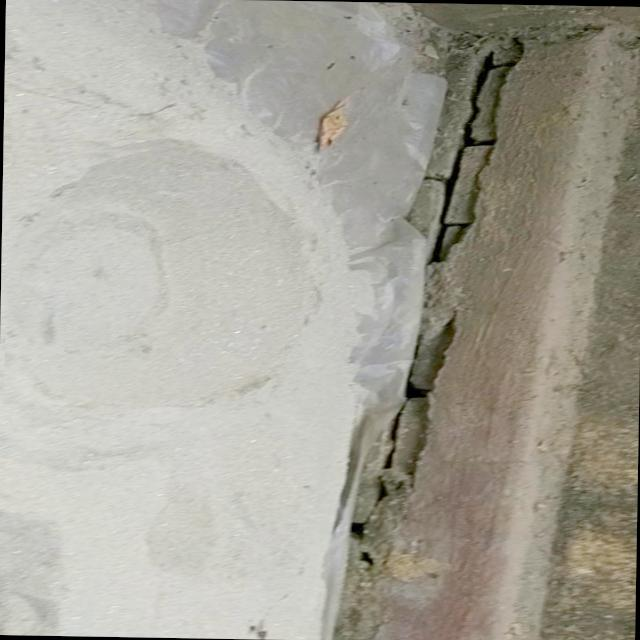C20: (3, 144, 316, 406)
